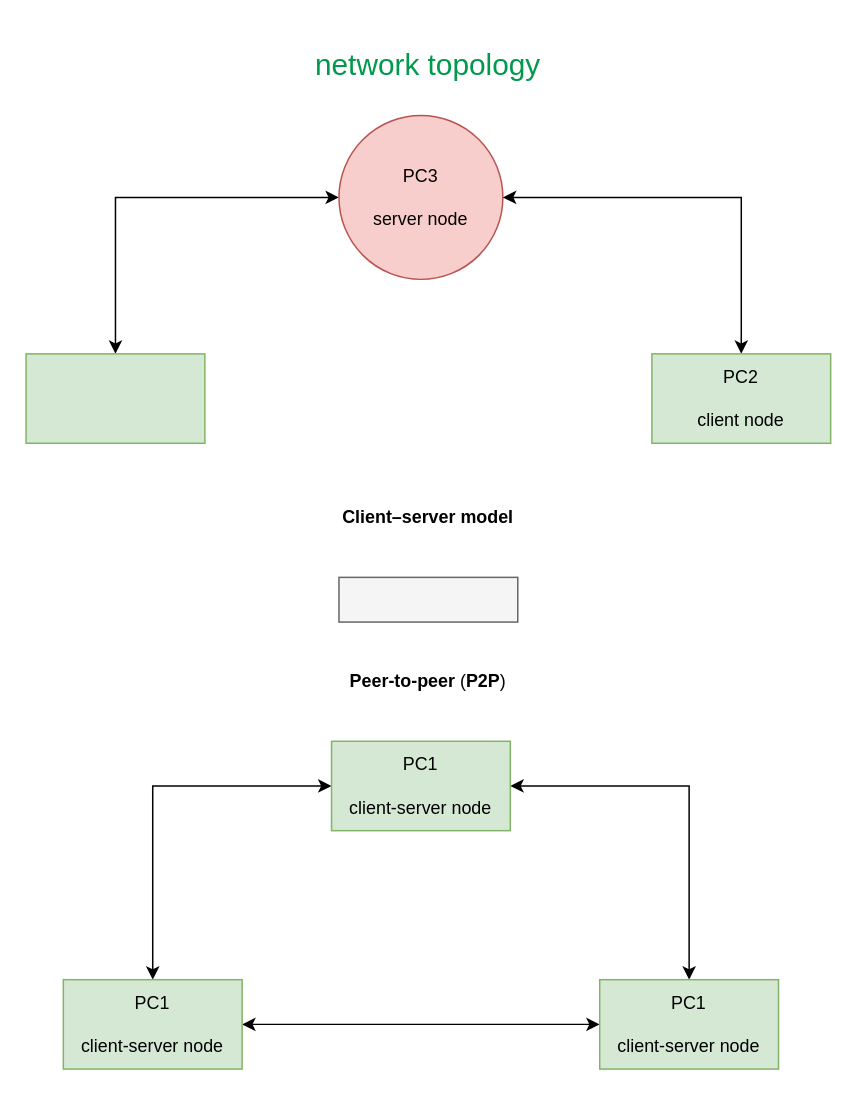
Image size: 857x1095. Some labels were removed from this diagram. The shapes that lost their labels are listed below. From the top down, each one's centre as x and y in pixels, then its label:
At point (115, 397): "PC1 client node".
At point (427, 599): "OR".
